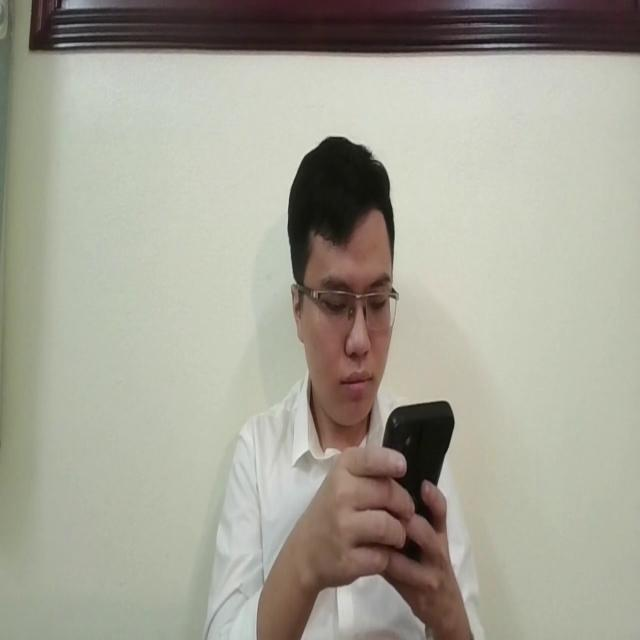phone: (376, 393, 457, 536)
student: (200, 126, 482, 640)
